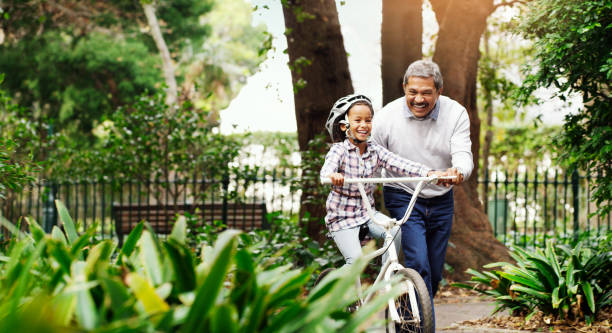without mask: (400, 68, 443, 121), (340, 108, 379, 144)
